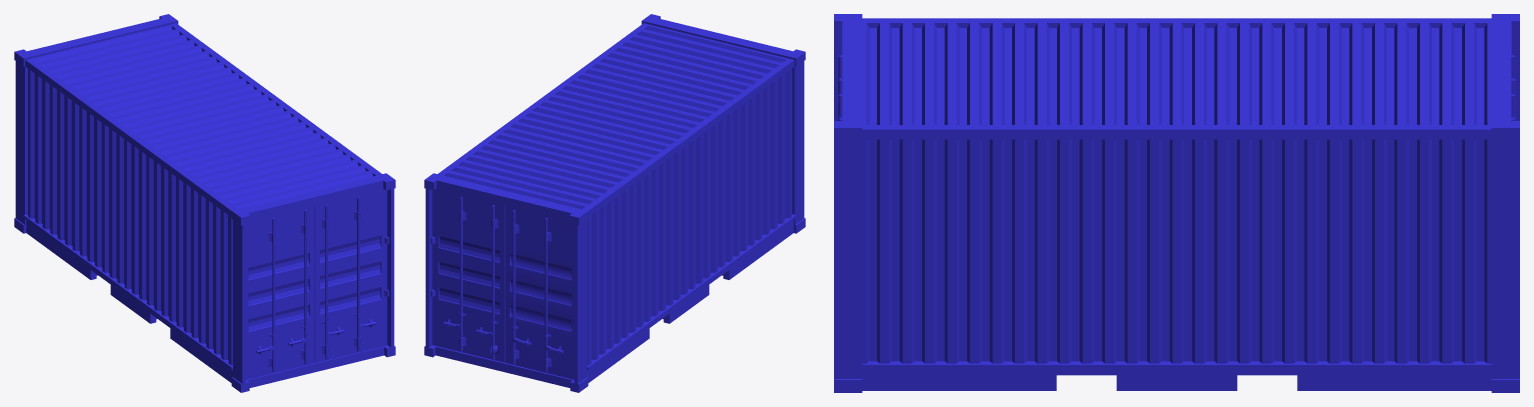
Rendered from Container_new.fbx.
The picture shows the model from 3 angles, left to right: view 1: azimuth 30°, elevation 25°; view 2: azimuth 150°, elevation 25°; view 3: azimuth 270°, elevation 25°; orthographic projection. The views are drawn at different scales.
Parts seen in each view (by area): view 1: Container.001; view 2: Container.001; view 3: Container.001.
Boxes of the visible parts, x1,y1,x2,y2 form: Container.001: (14,14,395,392); Container.001: (424,14,805,392); Container.001: (834,14,1519,392).
Size of the model in its own units: 240 by 260 by 610.
